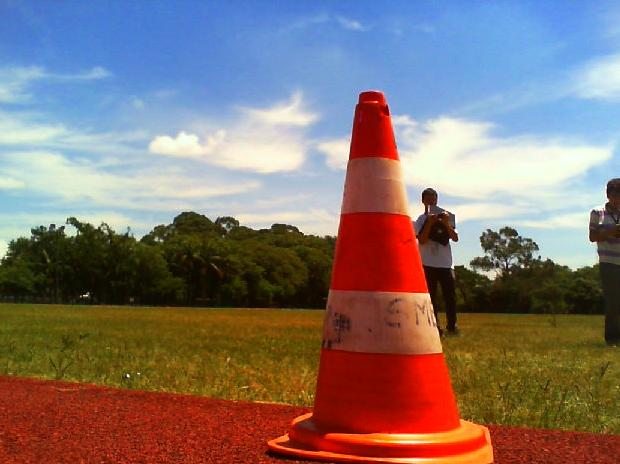0 cone: (268, 90, 492, 464)
